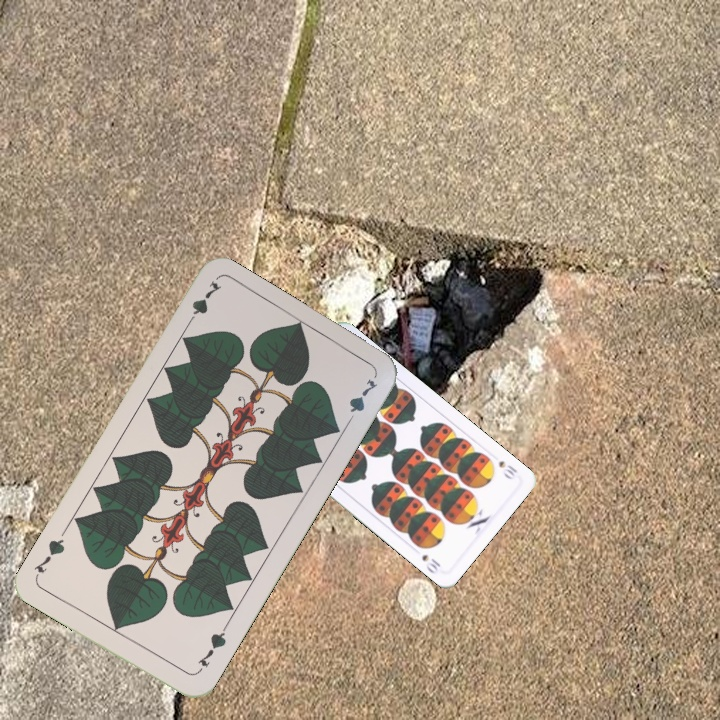G7: (181, 277, 225, 331), (193, 622, 229, 671)
S10: (494, 456, 520, 482)
